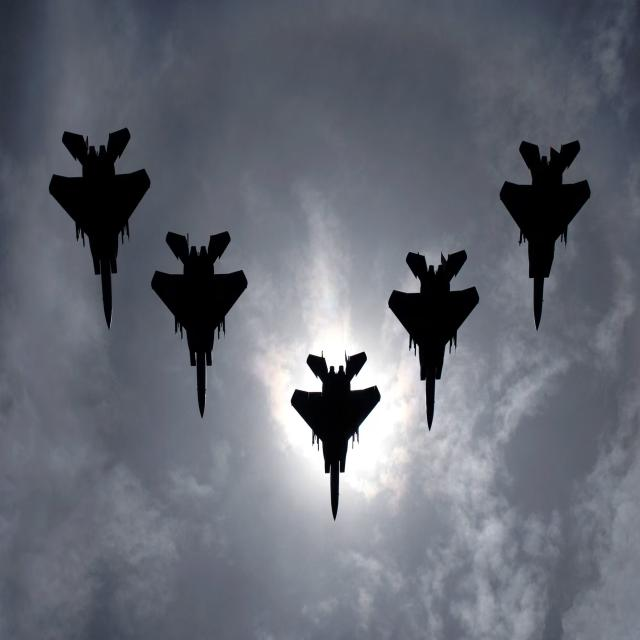F15: (34, 101, 163, 343), (278, 328, 398, 534), (145, 208, 255, 429), (491, 116, 607, 324), (376, 234, 498, 416)
